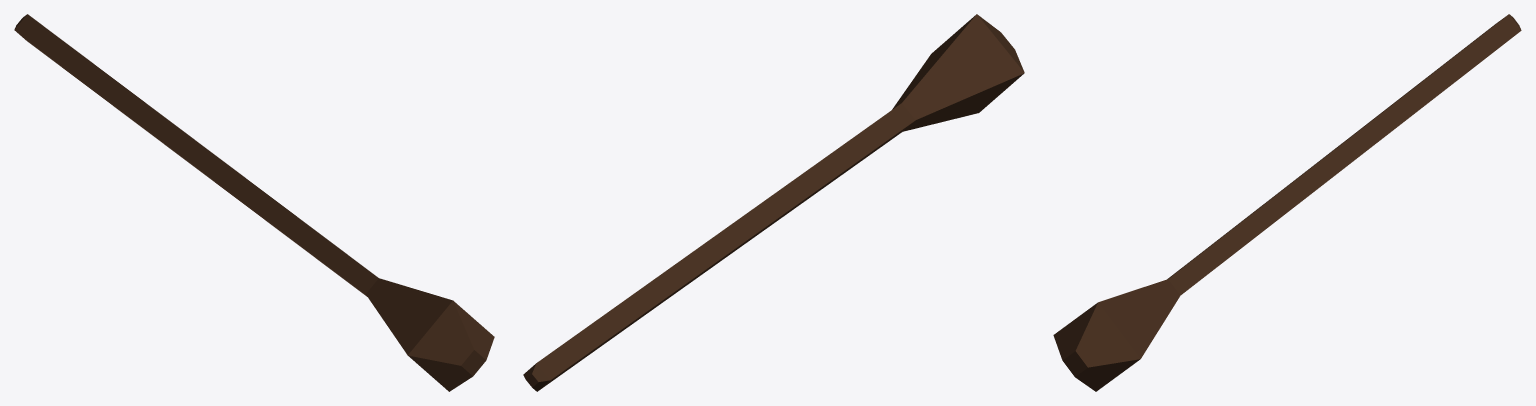
File: Club.fbx
3 renders of one model, left to right at view 1: azimuth 30°, elevation 25°; view 2: azimuth 150°, elevation 25°; view 3: azimuth 330°, elevation 25°, orthographic. The views are drawn at different scales.
Visible parts, largest first — view 1: staff .001; view 2: staff .001; view 3: staff .001.
Part boxes in pixels (box(x1,y1,x2,y2)): staff .001: box(14, 14, 494, 391); staff .001: box(523, 14, 1024, 391); staff .001: box(1053, 14, 1521, 391).
Bounding box in the file's own units: 16.95 × 16.95 × 150.
